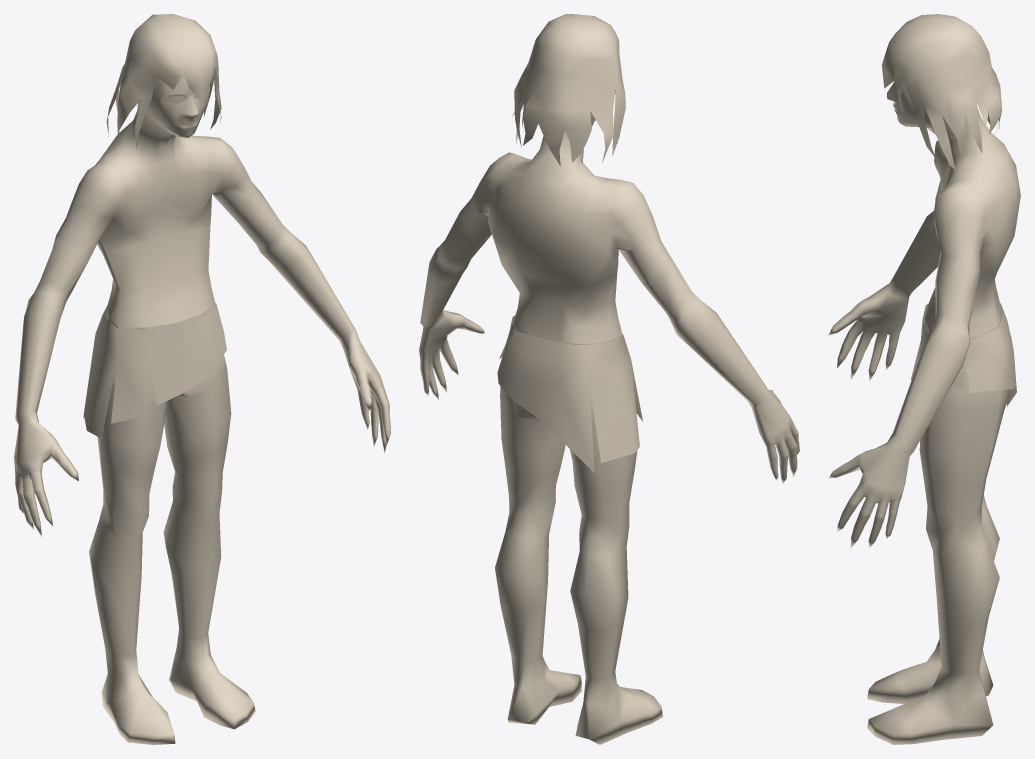
The model's file is 281-wretch.glb.
The picture shows the model from 3 angles, left to right: view 1: azimuth 30°, elevation 25°; view 2: azimuth 150°, elevation 25°; view 3: azimuth 270°, elevation 25°; orthographic projection.
Bounding box in the file's own units: 1.11 × 2.01 × 0.5045.
